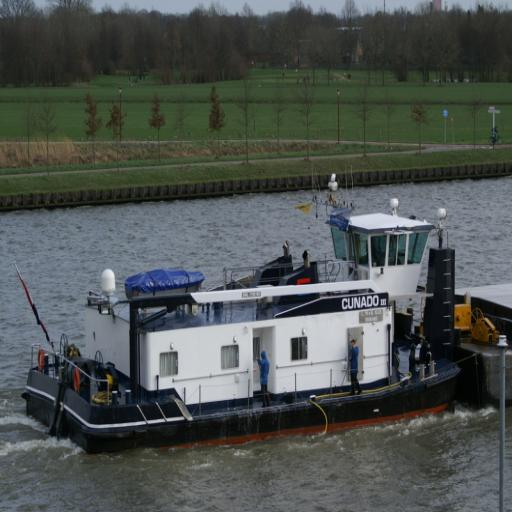tugboat: (19, 171, 486, 462)
